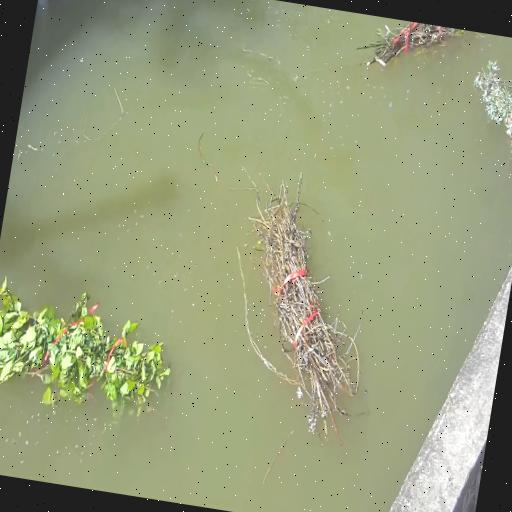twig: (249, 173, 359, 436), (0, 279, 169, 407), (356, 21, 464, 66), (473, 61, 512, 158)
